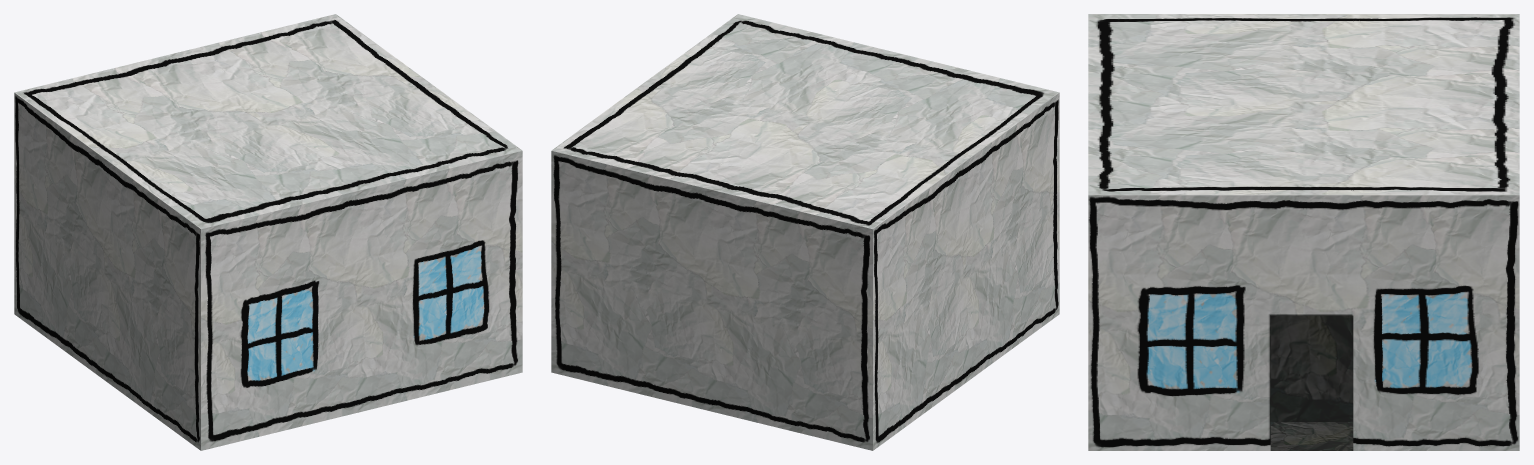
The model's file is house.fbx.
The picture shows the model from 3 angles, left to right: view 1: azimuth 30°, elevation 25°; view 2: azimuth 150°, elevation 25°; view 3: azimuth 270°, elevation 25°; orthographic projection. The views are drawn at different scales.
Visible parts, largest first — view 1: Cube; view 2: Cube; view 3: Cube.
Part boxes in pixels (x1,y1,x2,y2): Cube: [14, 14, 522, 450]; Cube: [551, 14, 1059, 450]; Cube: [1088, 14, 1519, 450].
Size of the model in its own units: 495 by 326 by 498.
Materials: 3 (3 with a texture image).
